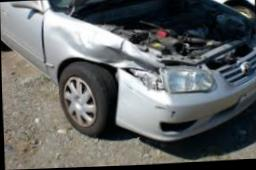Bonnet: (62, 0, 256, 70)
Bumper: (120, 82, 212, 139)
Fender: (42, 12, 162, 91)
